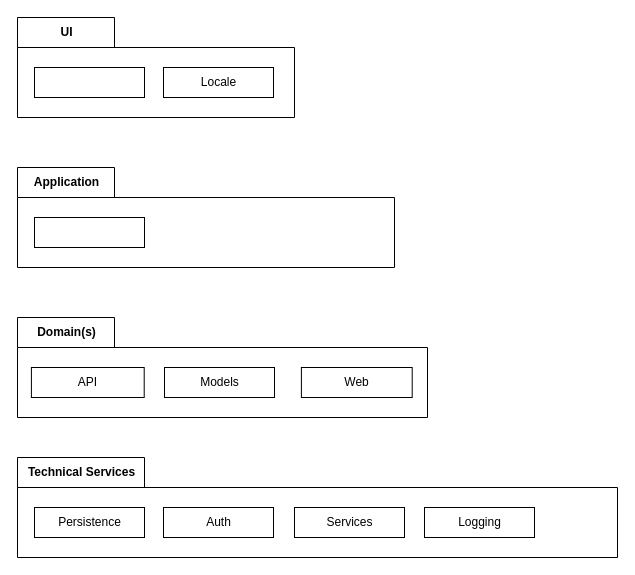
Image size: 635x575. Some labels were removed from this diagram. Each missing label, with the centre of its shape:
"Components" belongs at (89,232).
"Views" belongs at (89,82).
